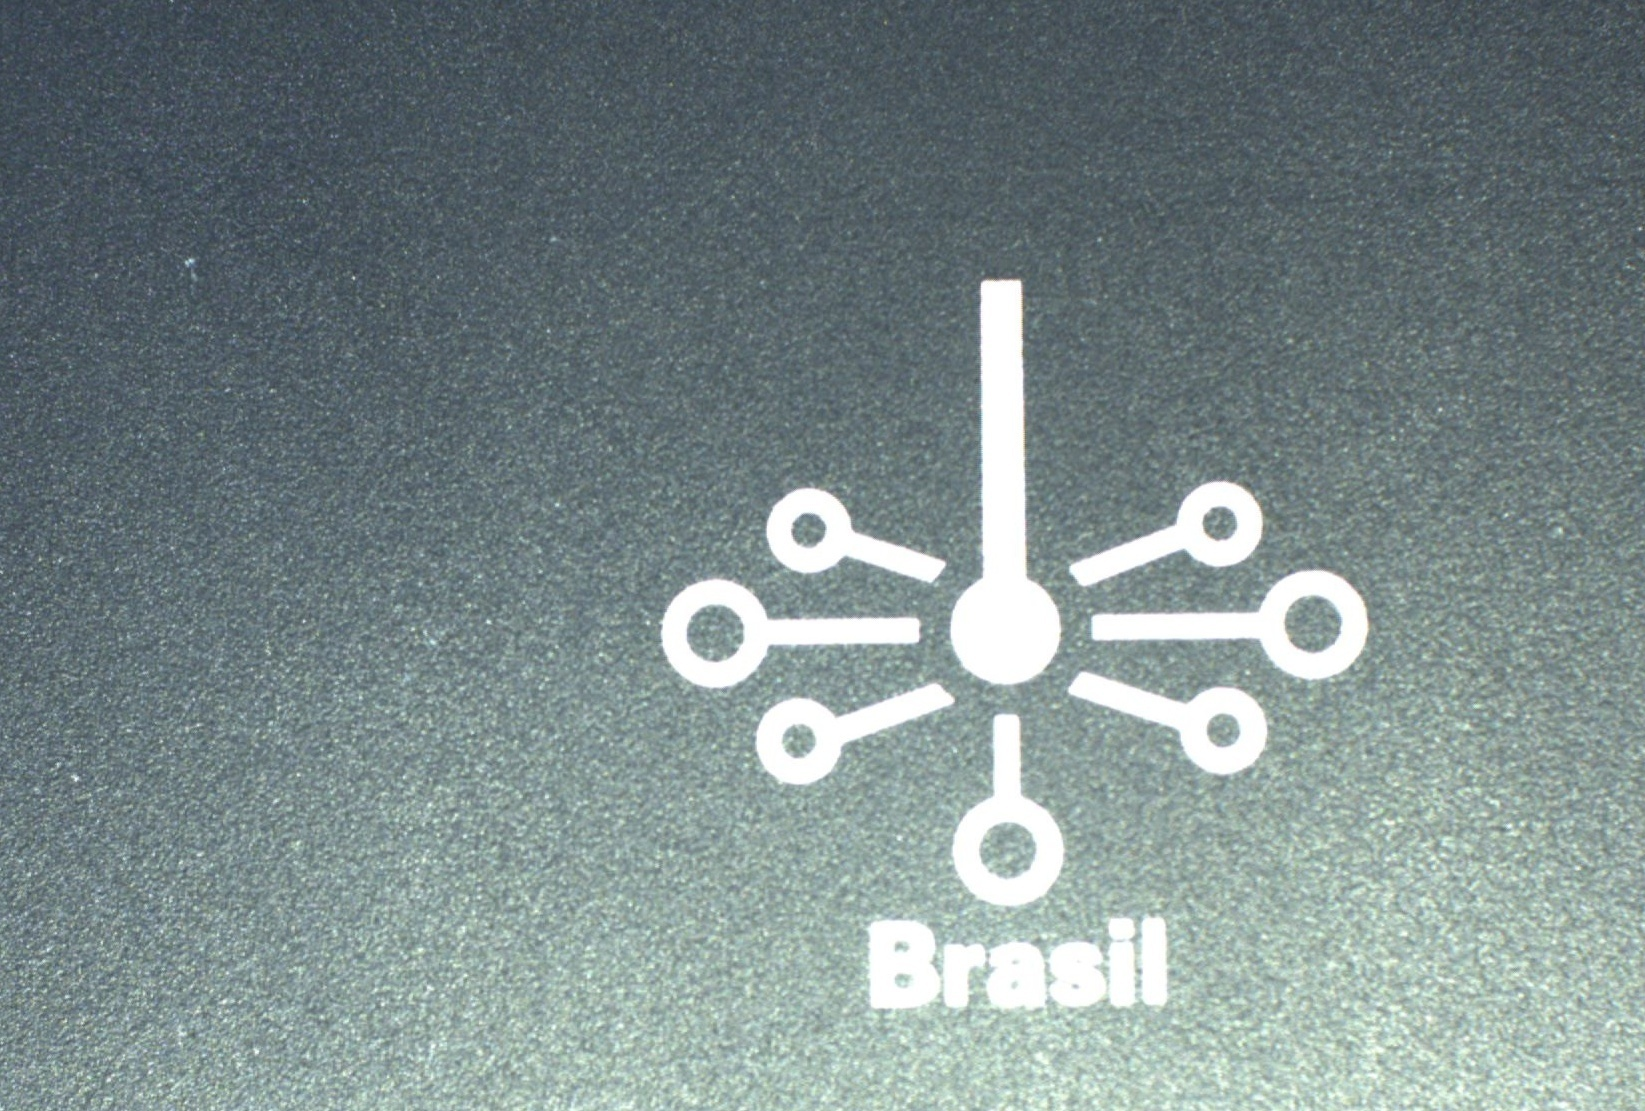BO_Brsail: (638, 267, 1383, 1037)
